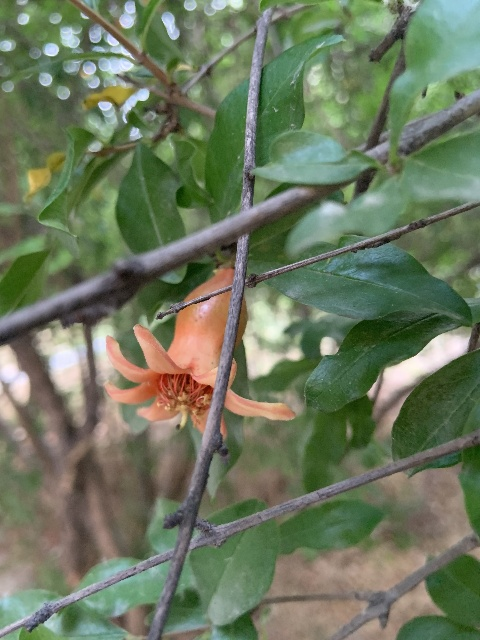early-fruit: (102, 268, 296, 443)
